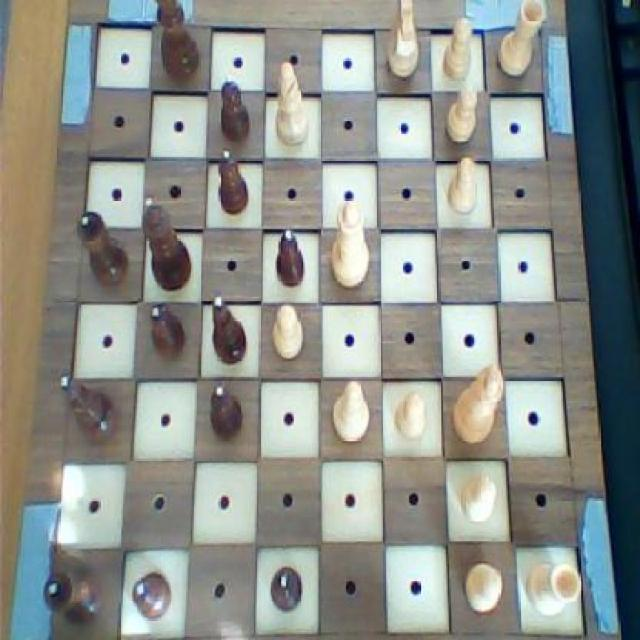bishop: (55, 368, 124, 452), (206, 292, 252, 368)
black-bishop: (148, 0, 207, 88)
black-knight: (214, 68, 254, 146), (146, 298, 192, 362), (128, 562, 175, 622), (274, 219, 310, 293), (217, 148, 252, 220), (207, 382, 246, 444), (269, 560, 306, 615)
black-pawn: (137, 195, 195, 292)
black-queen: (72, 206, 133, 294), (42, 560, 112, 629)
black-rook: (271, 52, 315, 151), (328, 372, 375, 446)
white-bishop: (444, 358, 508, 448)
white-king: (382, 0, 422, 85)
white-knight: (457, 555, 507, 621), (438, 8, 479, 88), (264, 298, 308, 366), (441, 83, 484, 150), (443, 153, 485, 220), (454, 468, 499, 530), (391, 383, 428, 444)
white-pawn: (325, 192, 379, 296)
white-queen: (522, 554, 588, 625), (492, 0, 547, 85)
